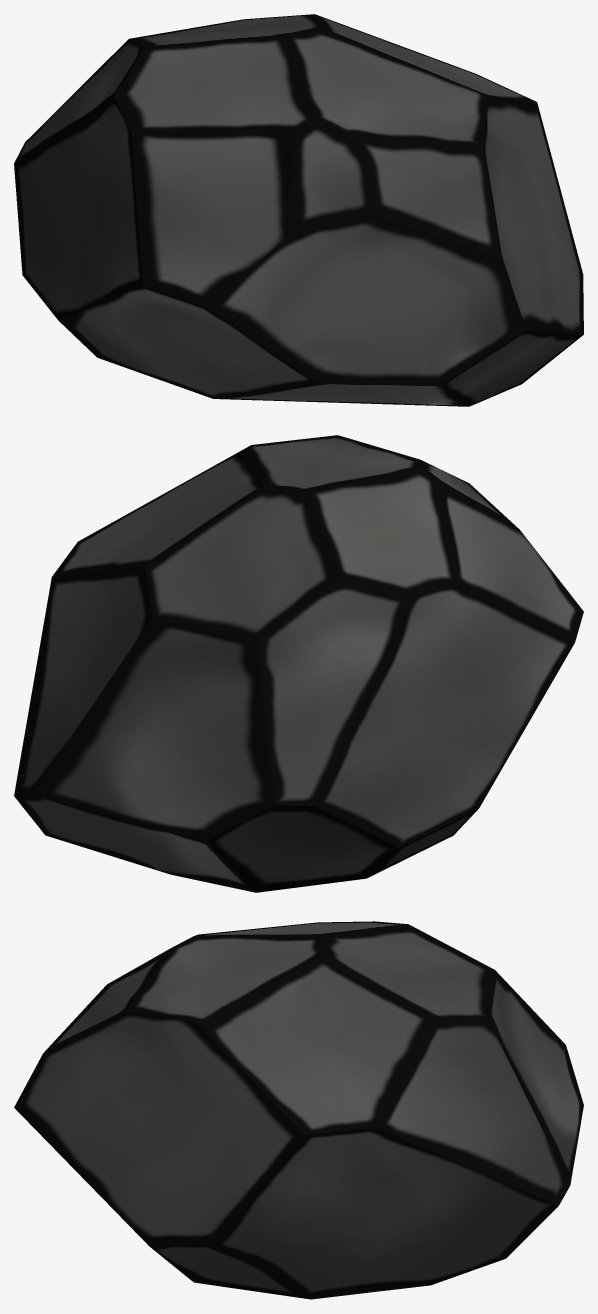
File: Rock3.fbx
3 renders of one model, top to bottom at view 1: azimuth 30°, elevation 25°; view 2: azimuth 150°, elevation 25°; view 3: azimuth 270°, elevation 25°, orthographic. The views are drawn at different scales.
Visible parts, largest first — view 1: Sphere.001; view 2: Sphere.001; view 3: Sphere.001.
Part boxes in pixels (x1=…): Sphere.001: x1=14, y1=14, x2=583, y2=406; Sphere.001: x1=14, y1=435, x2=583, y2=892; Sphere.001: x1=14, y1=921, x2=583, y2=1299.
Bounding box in the file's own units: 1.68 × 1.2 × 2.19.
